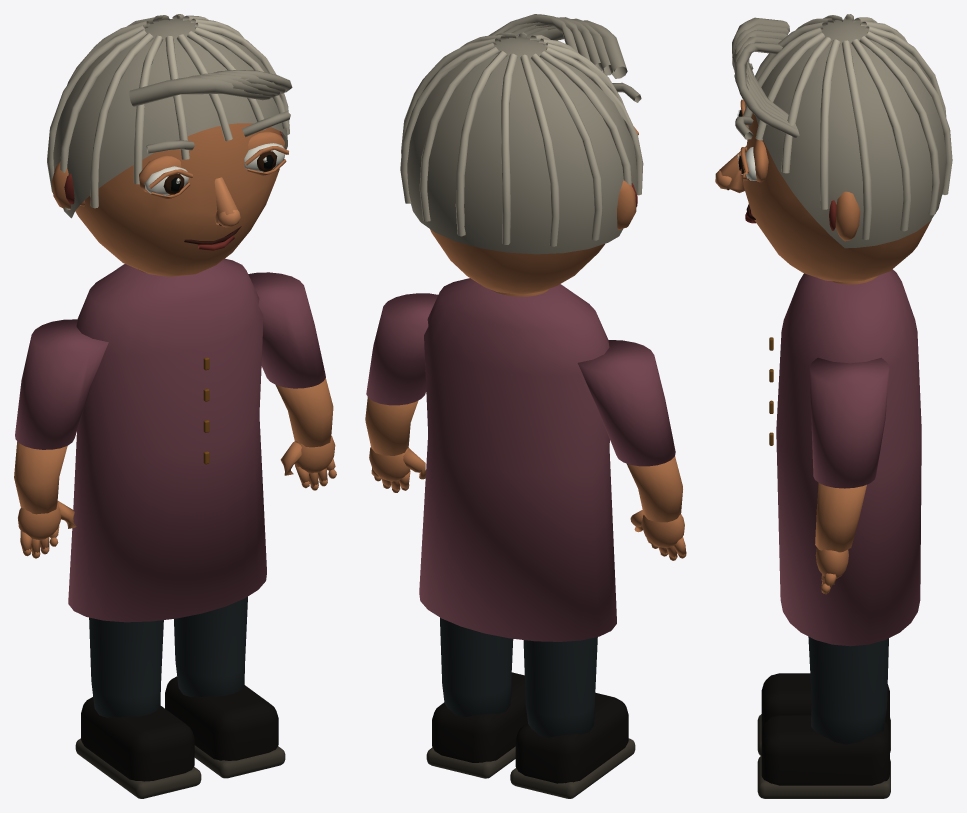
The model's file is patient-48.glb.
The picture shows the model from 3 angles, left to right: view 1: azimuth 30°, elevation 25°; view 2: azimuth 150°, elevation 25°; view 3: azimuth 270°, elevation 25°; orthographic projection.
Parts seen in each view (by area): view 1: Body, Head, LegL, LegR, ArmL, ArmR; view 2: Body, Head, LegL, ArmL, LegR, ArmR; view 3: Head, Body, LegR, ArmR, LegL.
Boxes of the visible parts, box(x1,y1,x2,y2) form: Body: box(68, 258, 266, 622); Head: box(47, 14, 292, 276); LegL: box(75, 617, 201, 798); LegR: box(165, 596, 285, 778); ArmL: box(14, 319, 108, 558); ArmR: box(248, 272, 336, 490); Body: box(419, 278, 616, 641); Head: box(400, 14, 643, 294); LegL: box(510, 637, 635, 798); ArmL: box(577, 340, 686, 560); LegR: box(426, 617, 527, 778); ArmR: box(365, 293, 437, 492); Head: box(715, 14, 952, 282); Body: box(769, 269, 921, 646); LegR: box(757, 636, 890, 798); ArmR: box(809, 357, 889, 594); LegL: box(757, 673, 890, 755).
Size of the model in its own units: 0.6028 by 1.33 by 0.3892.
